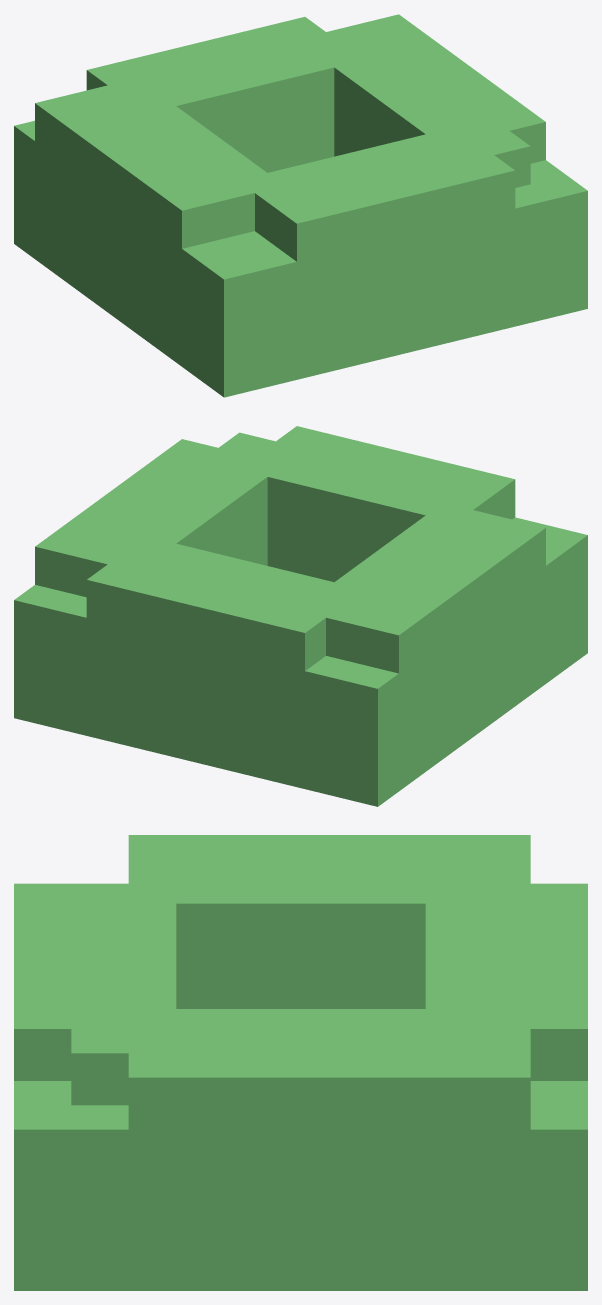
Rendered from x_zem_1_14_1_rmstrd.fbx.
3 views of the same model, one above another, from view 1: azimuth 30°, elevation 25°; view 2: azimuth 150°, elevation 25°; view 3: azimuth 270°, elevation 25° (orthographic). The views are drawn at different scales.
Parts seen in each view (by area): view 1: x_zem_1_14_1_rmstrd1; view 2: x_zem_1_14_1_rmstrd1; view 3: x_zem_1_14_1_rmstrd1.
Boxes of the visible parts, x1,y1,x2,y2 form: x_zem_1_14_1_rmstrd1: [14, 14, 587, 397]; x_zem_1_14_1_rmstrd1: [14, 426, 587, 806]; x_zem_1_14_1_rmstrd1: [14, 835, 587, 1290].
Size of the model in its own units: 10 by 4.1 by 10.
